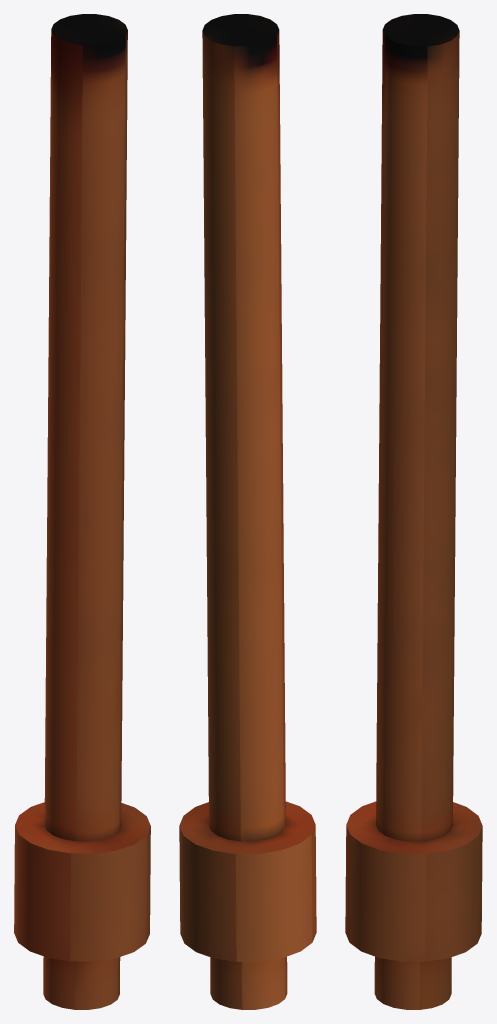
Rendered from zx120-bucket-cyl1.dae.
3 views of the same model, side by side, from view 1: azimuth 30°, elevation 25°; view 2: azimuth 210°, elevation 25°; view 3: azimuth 330°, elevation 25° (orthographic).
Parts seen in each view (by area): view 1: arm-R-Cyl; view 2: arm-R-Cyl; view 3: arm-R-Cyl.
Boxes of the visible parts, x1,y1,x2,y2 form: arm-R-Cyl: [14, 14, 150, 1009]; arm-R-Cyl: [179, 14, 316, 1009]; arm-R-Cyl: [345, 14, 482, 1009].
Bounding box in the file's own units: 0.1588 × 0.16 × 1.25.
1 material, 1 textured.
